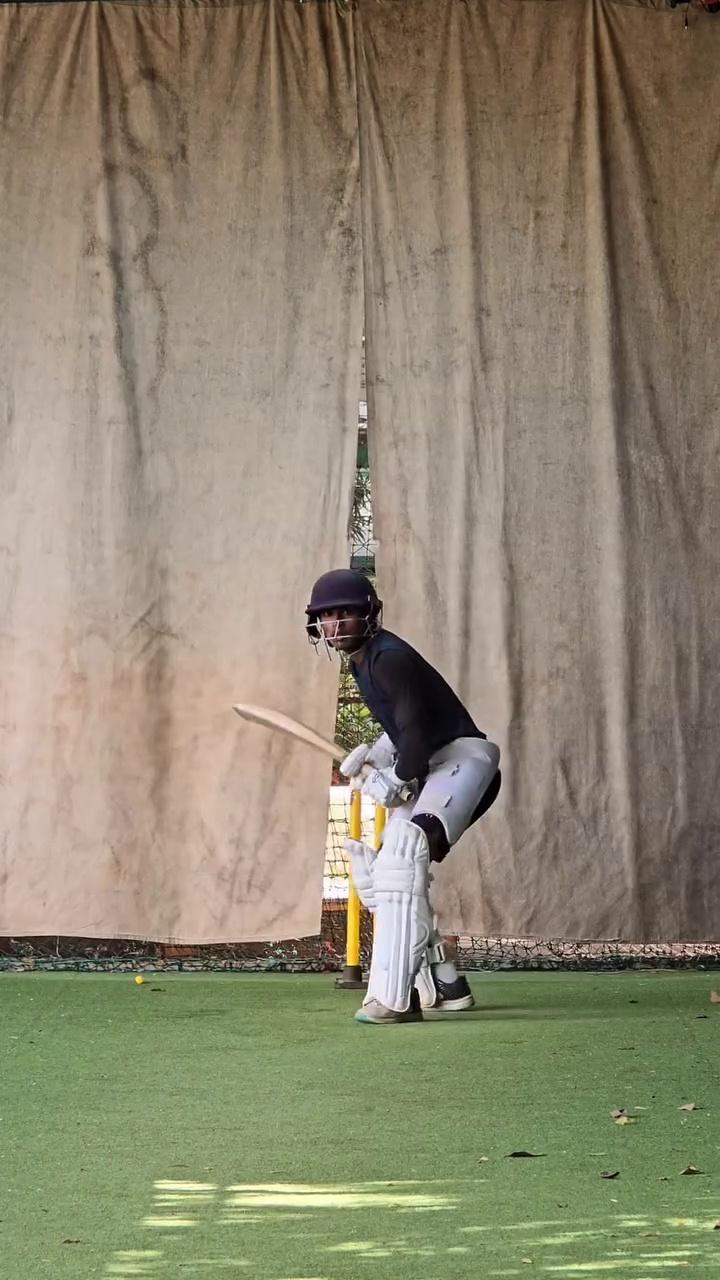bat: (227, 687, 350, 778)
